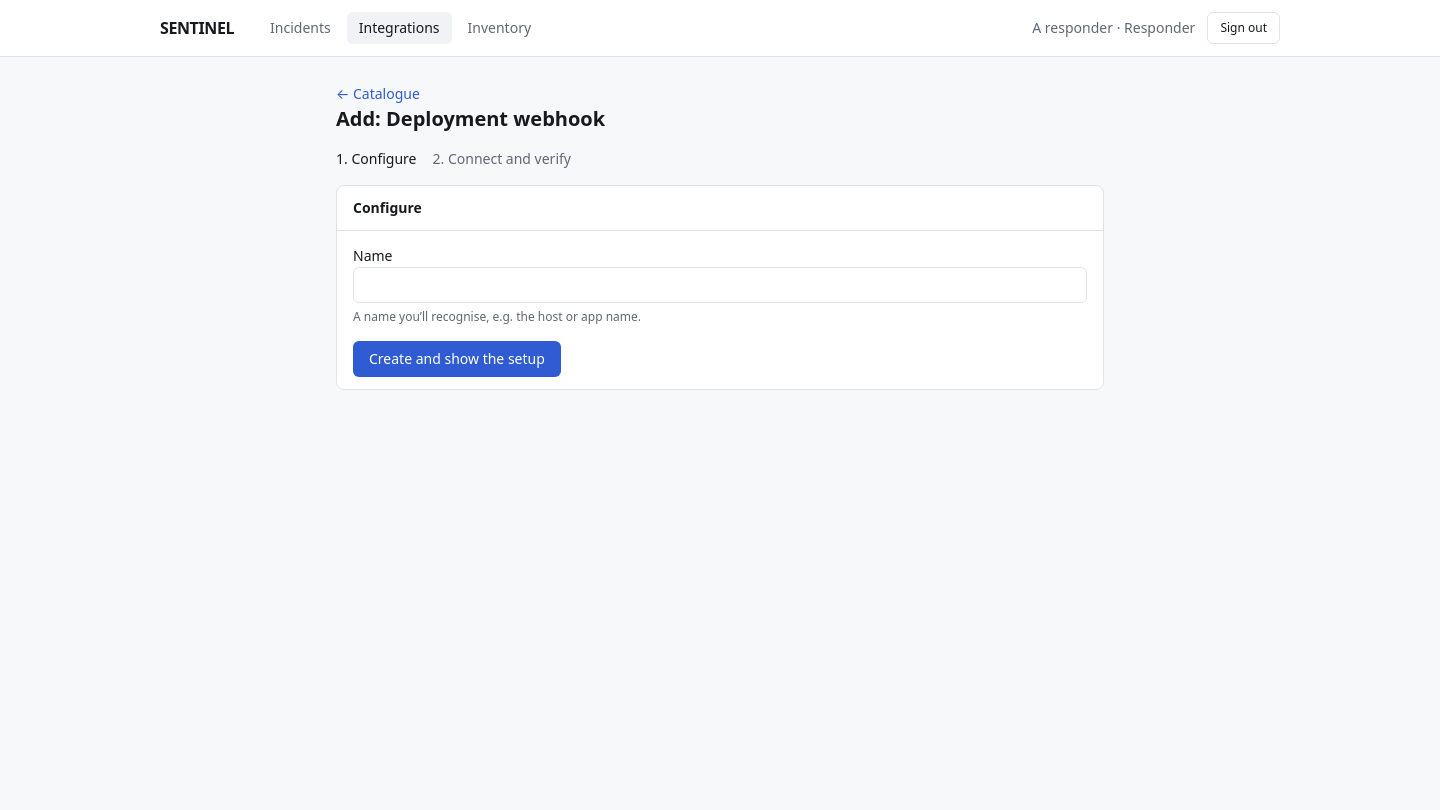
Test: catalogue and wizard › a deployment webhook: a scoped key, shown once, and a curl step for CI
The image size is (1440, 810).
Type "ci" into the field labelled "Name" at (720,285), box [353, 267, 1087, 303]
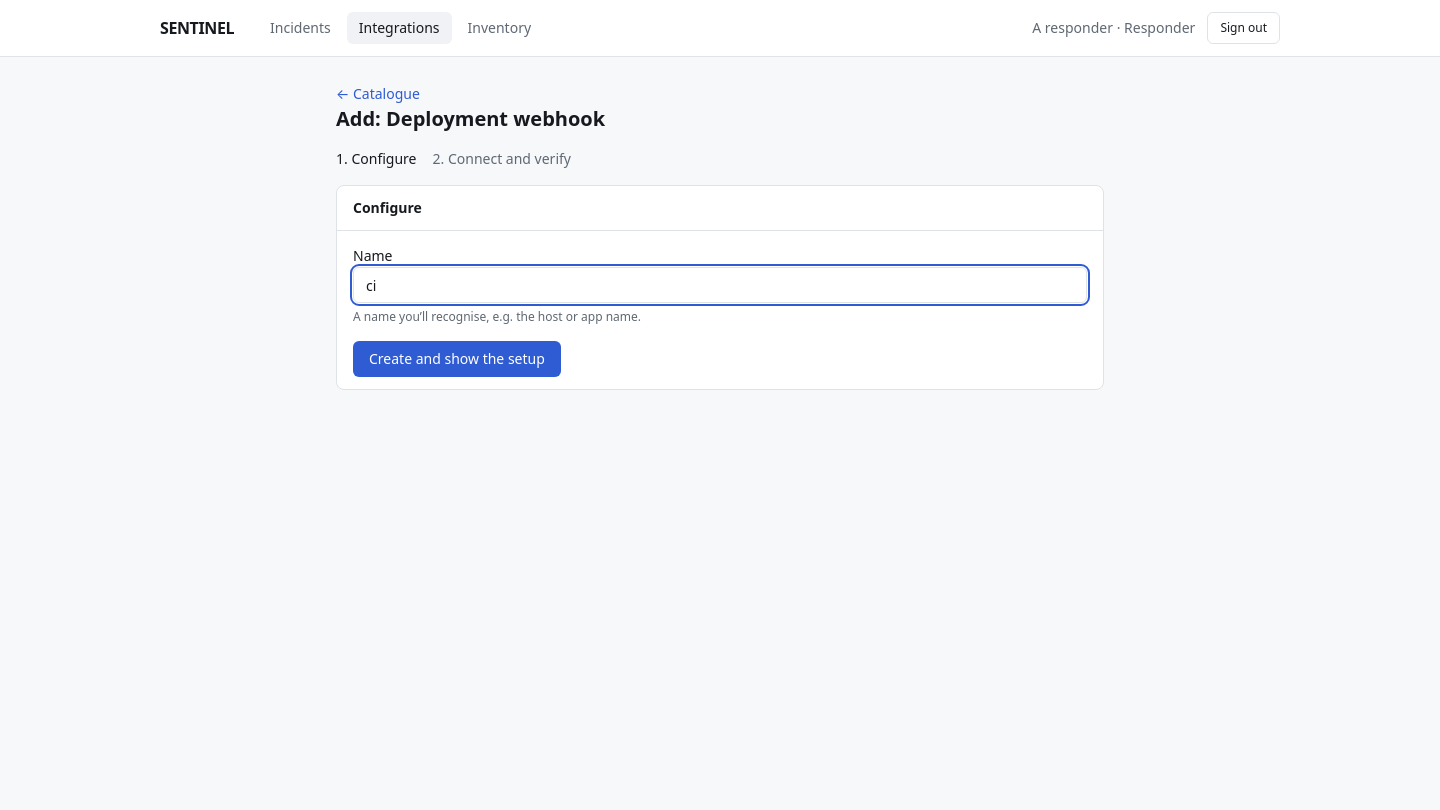
Click the button "Create and show the setup" at (457,359), box [353, 341, 561, 377]
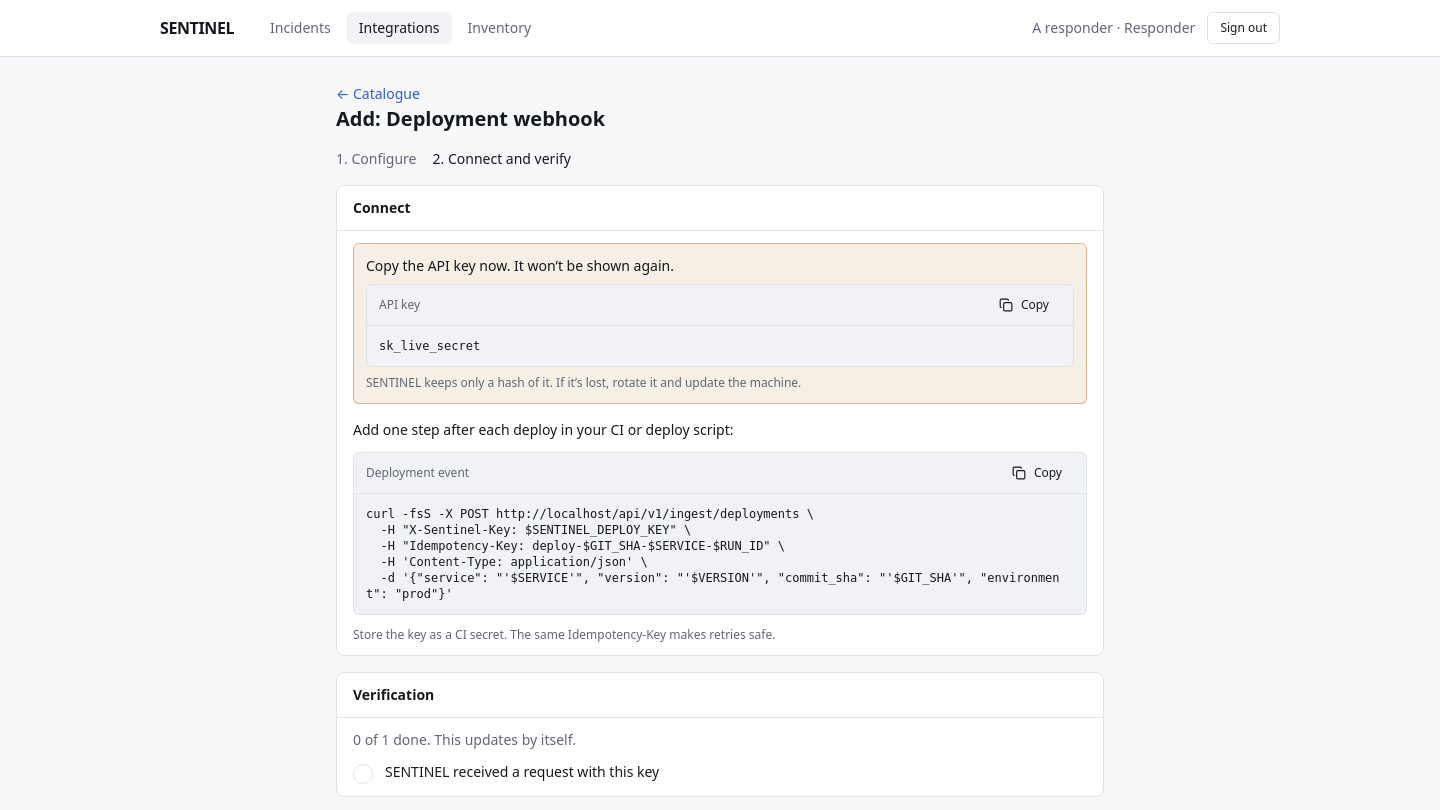
Result: the text named "API key" reads "sk_live_secret" at [379, 339, 480, 353]
